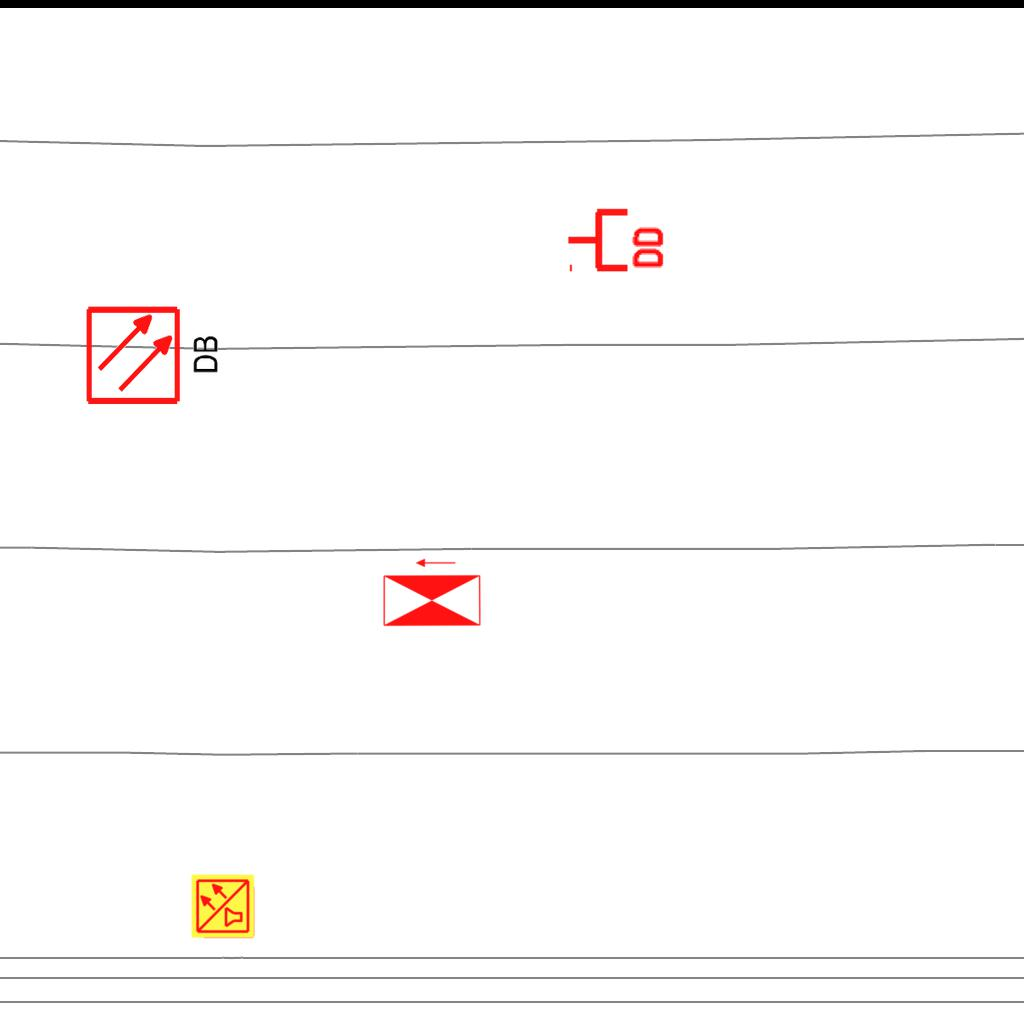DB_Melder_in_Doppelboden_mit_Revisionsoeffnung_mind_40_x_40_cm: (79, 297, 228, 411)
Datenanschluss_zweifach: (565, 204, 668, 273)
Fluchtwegpiktogramm: (380, 556, 484, 629)
OKW_Multisensormelder_(Kombination_optischer_Rauch-Kahlenmonoxid_Waerme-Melder): (190, 873, 256, 939)
